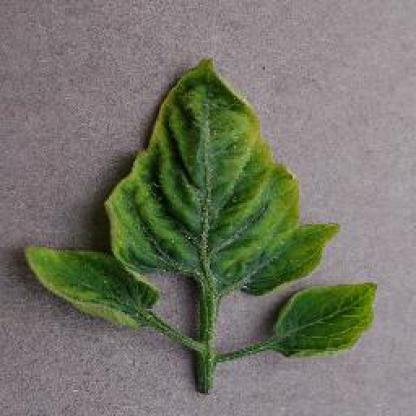bad leaf: (126, 65, 312, 289), (26, 241, 154, 330)
good leaf: (267, 282, 394, 365)
